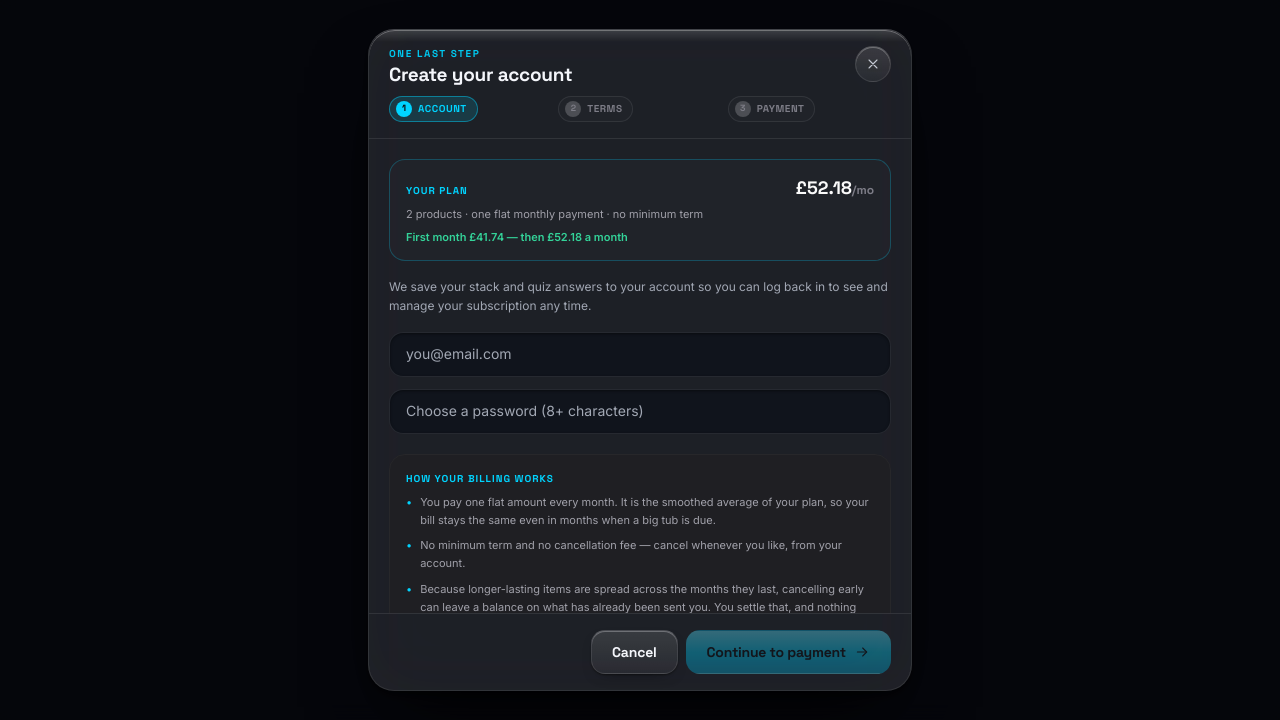
Test case: AccountGate consent › keeps subscribe disabled until the box is ticked, even with valid credentials
Type "sam@example.com" into the field with placeholder "you@email.com". click: coordinates (640, 354)
box: [389, 332, 891, 377]
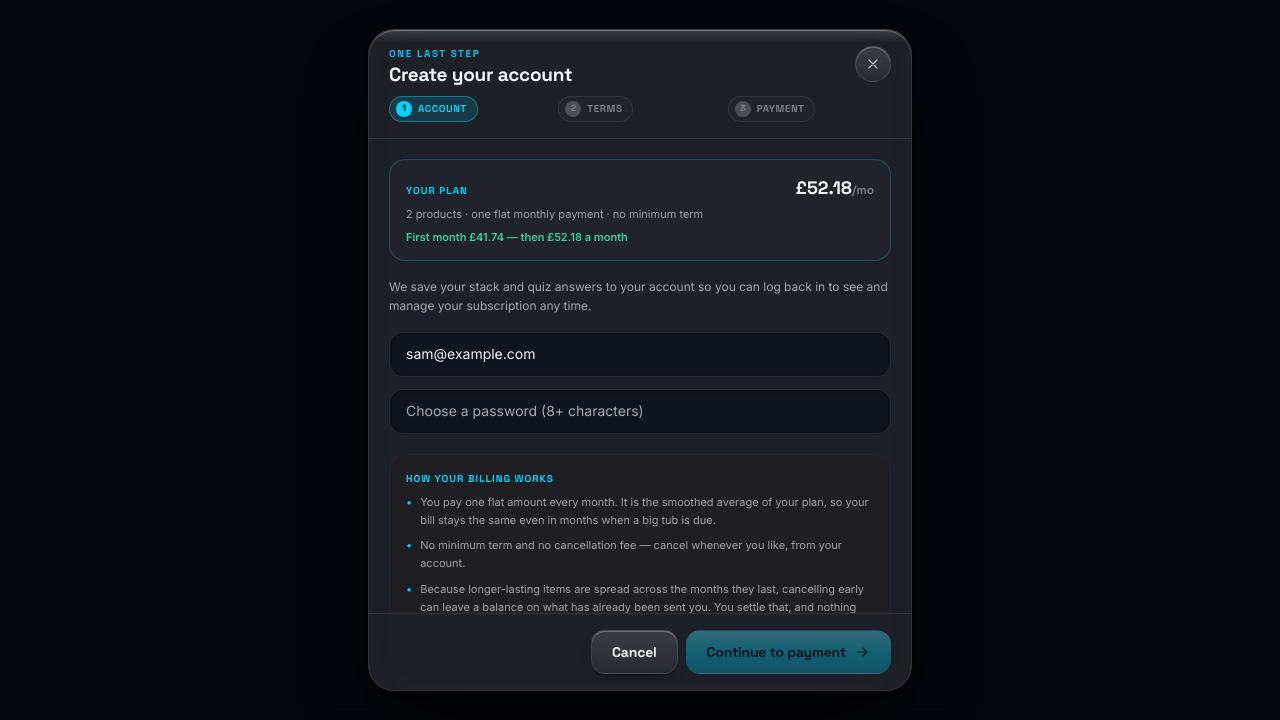
Type "password123" into the password field with placeholder "Choose a password (8+ characters)". click: coordinates (640, 411)
box: [389, 389, 891, 434]
(page scrolled)
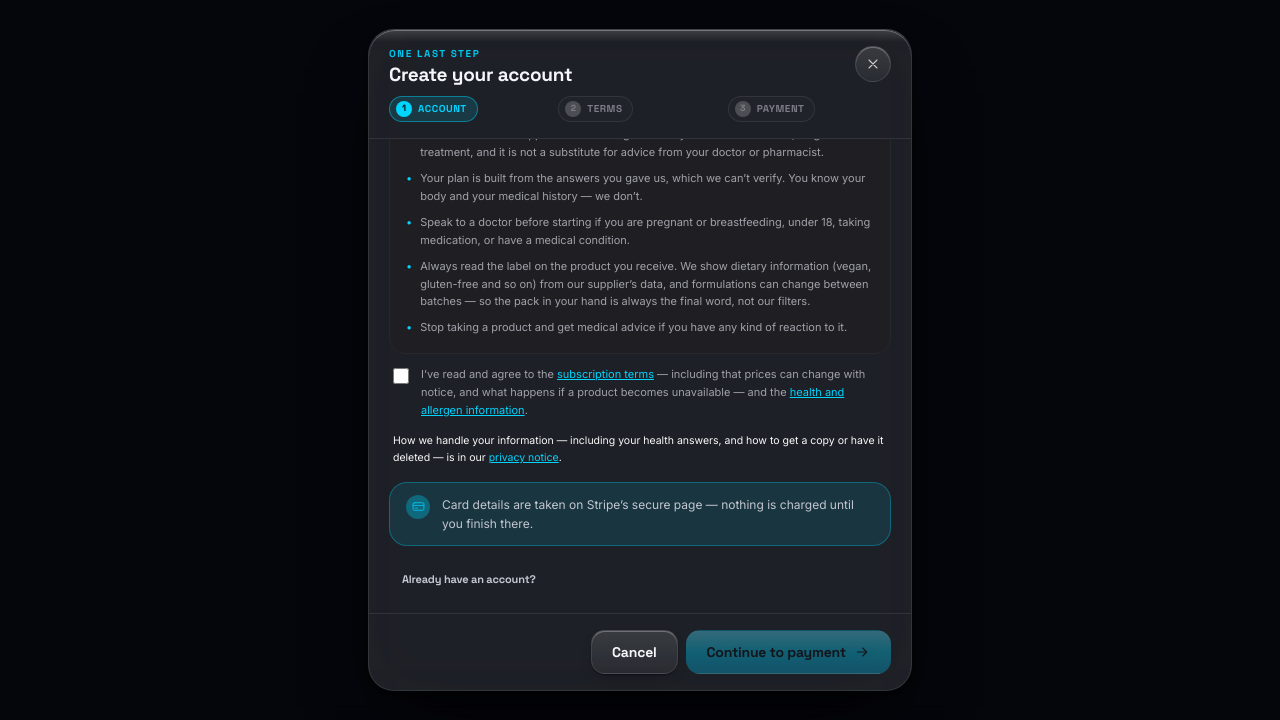
expect the button "Continue to payment" is disabled: met, box [686, 630, 891, 674]
Click the checkbox. click: coordinates (401, 376)
box: [393, 368, 409, 384]
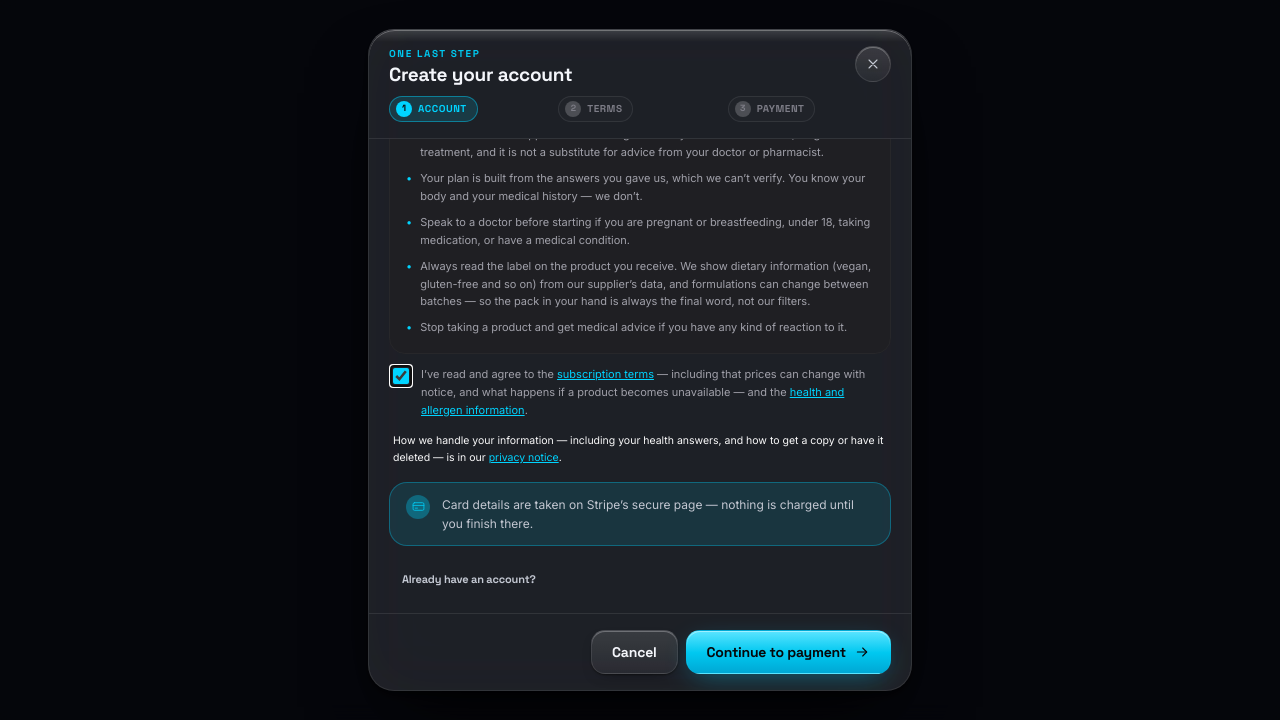
expect the button "Continue to payment" is enabled: met, box [686, 630, 891, 674]
